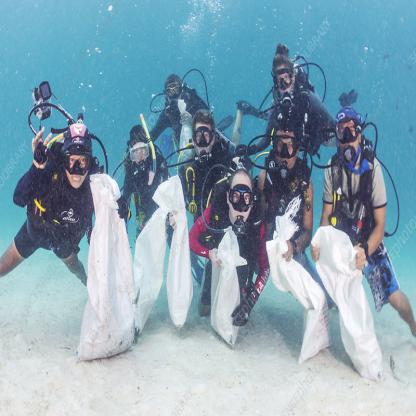waste: (316, 228, 385, 382), (82, 170, 136, 361), (269, 218, 333, 360), (152, 178, 192, 332), (135, 208, 166, 336), (213, 229, 243, 347), (179, 98, 194, 154)
